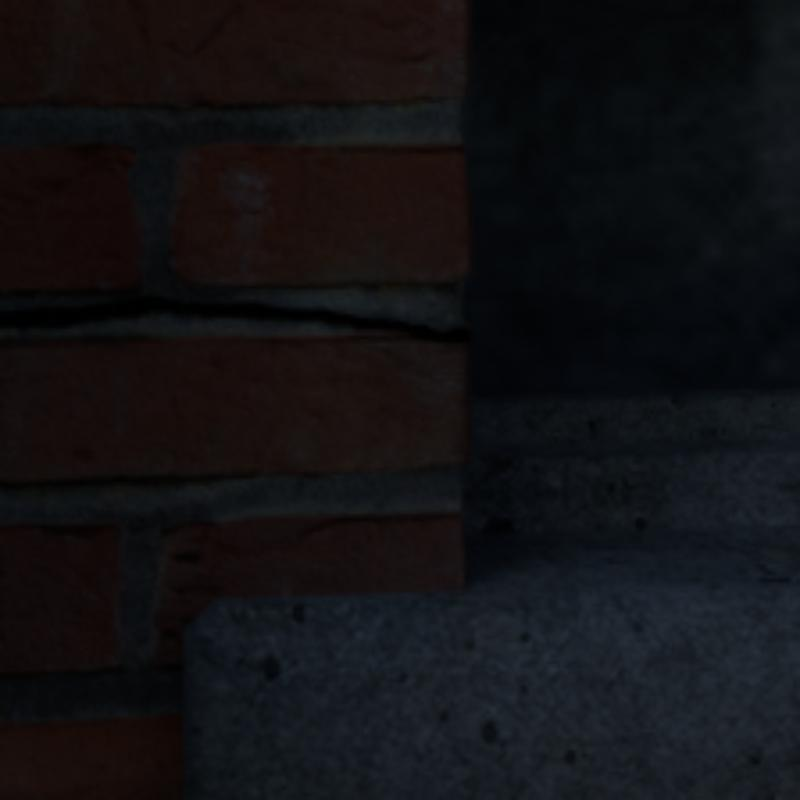pothole: (0, 296, 461, 343)
